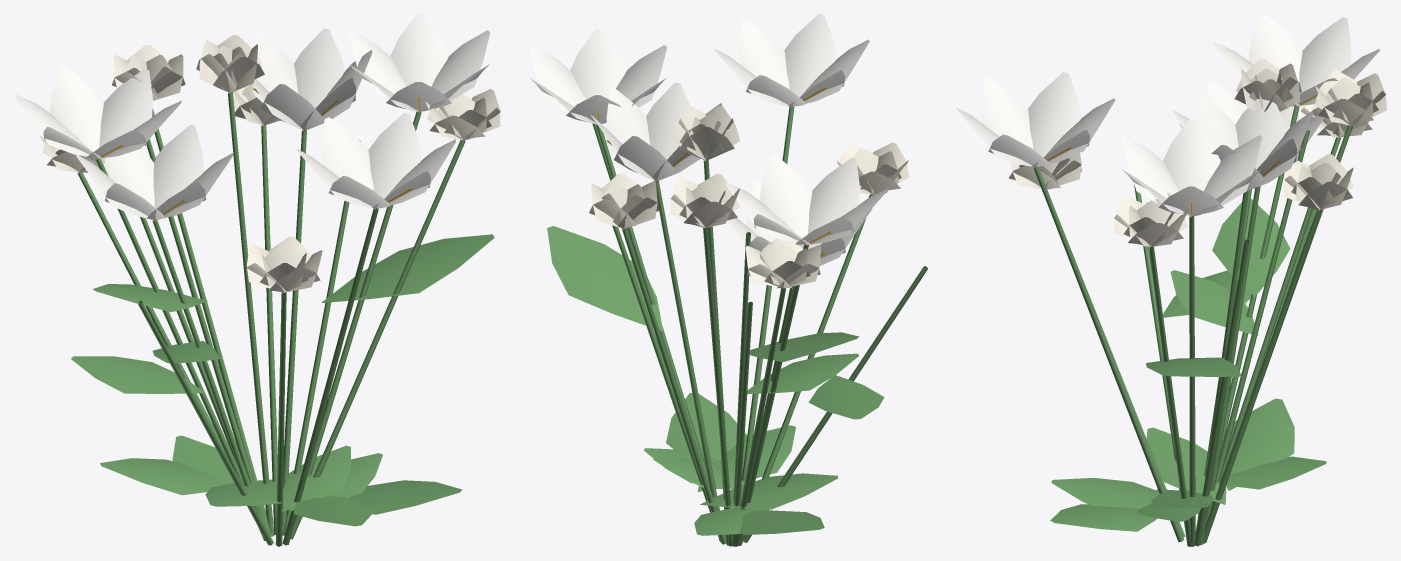
The model's file is lotprop__lot_chapel_nave_flowers_urn.glb.
The picture shows the model from 3 angles, left to right: view 1: azimuth 30°, elevation 25°; view 2: azimuth 150°, elevation 25°; view 3: azimuth 270°, elevation 25°; orthographic projection. The views are drawn at different scales.
Parts seen in each view (by area): view 1: lotprop__lot_chapel_nave_flowers_urn_leaf, lotprop__lot_chapel_nave_flowers_urn_white, lotprop__lot_chapel_nave_flowers_urn_tint; view 2: lotprop__lot_chapel_nave_flowers_urn_leaf, lotprop__lot_chapel_nave_flowers_urn_white, lotprop__lot_chapel_nave_flowers_urn_tint; view 3: lotprop__lot_chapel_nave_flowers_urn_leaf, lotprop__lot_chapel_nave_flowers_urn_white, lotprop__lot_chapel_nave_flowers_urn_tint.
Part boxes in pixels (x1,y1,x2,y2): lotprop__lot_chapel_nave_flowers_urn_leaf: (71, 92, 494, 546); lotprop__lot_chapel_nave_flowers_urn_white: (14, 14, 490, 220); lotprop__lot_chapel_nave_flowers_urn_tint: (39, 35, 500, 292); lotprop__lot_chapel_nave_flowers_urn_leaf: (547, 106, 927, 546); lotprop__lot_chapel_nave_flowers_urn_white: (529, 14, 887, 265); lotprop__lot_chapel_nave_flowers_urn_tint: (562, 106, 909, 288); lotprop__lot_chapel_nave_flowers_urn_leaf: (1033, 106, 1352, 546); lotprop__lot_chapel_nave_flowers_urn_white: (956, 14, 1379, 216); lotprop__lot_chapel_nave_flowers_urn_tint: (1008, 59, 1386, 246).
Bounding box in the file's own units: 0.4815 × 0.5332 × 0.4467.
